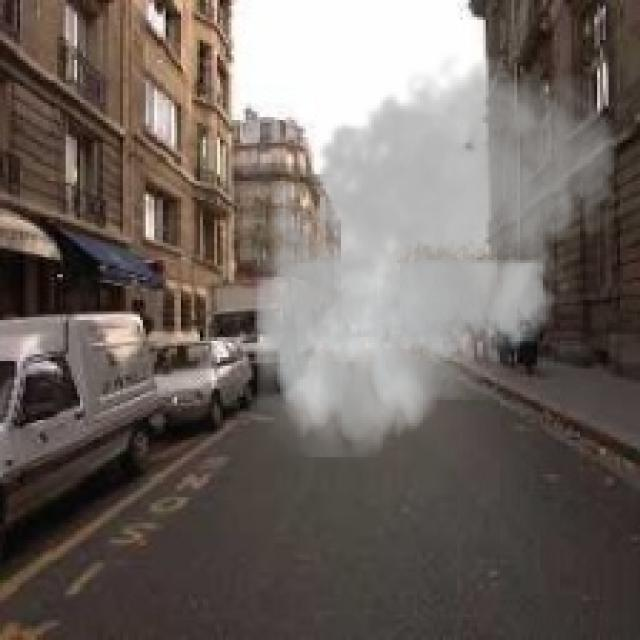smoke: (243, 43, 626, 457)
